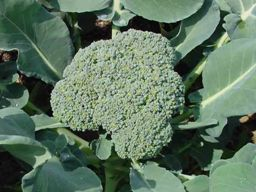broccoli: (48, 28, 188, 160)
